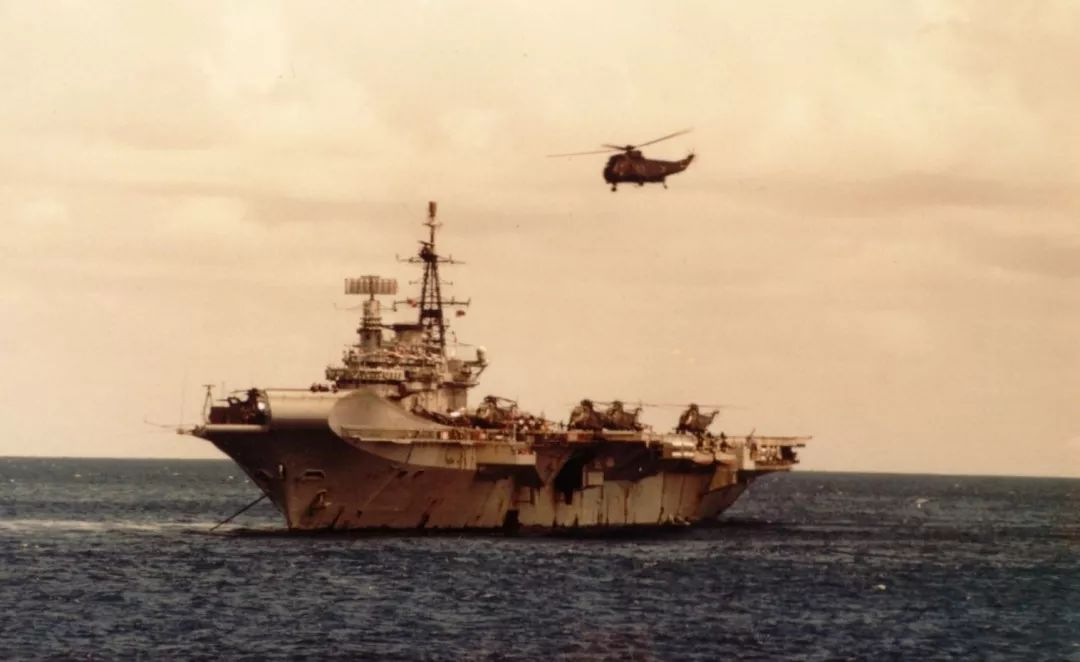airplane: (539, 125, 707, 193)
warship: (150, 198, 832, 541)
